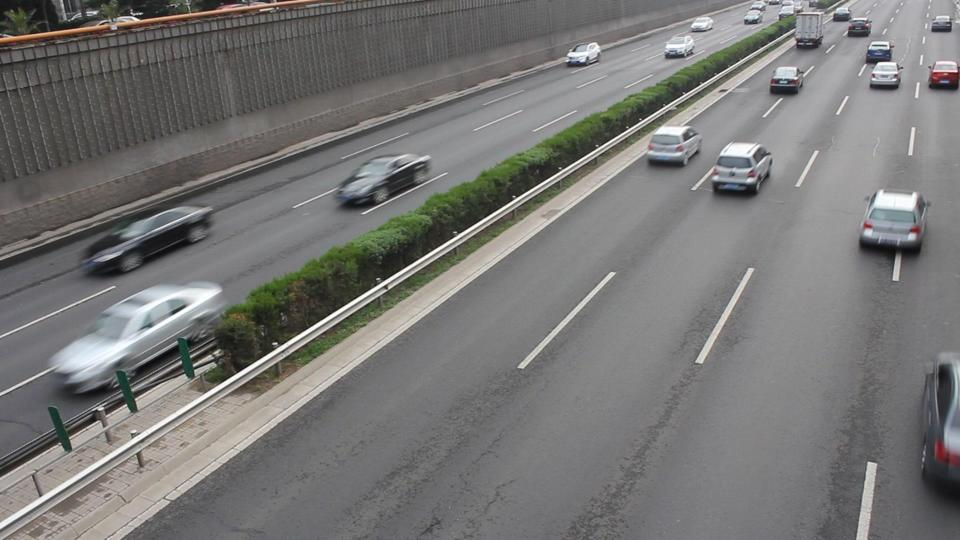Car: (51, 282, 222, 388), (80, 198, 214, 272), (916, 350, 960, 485), (333, 152, 426, 204), (856, 189, 924, 254), (708, 141, 769, 195), (644, 125, 699, 166)
